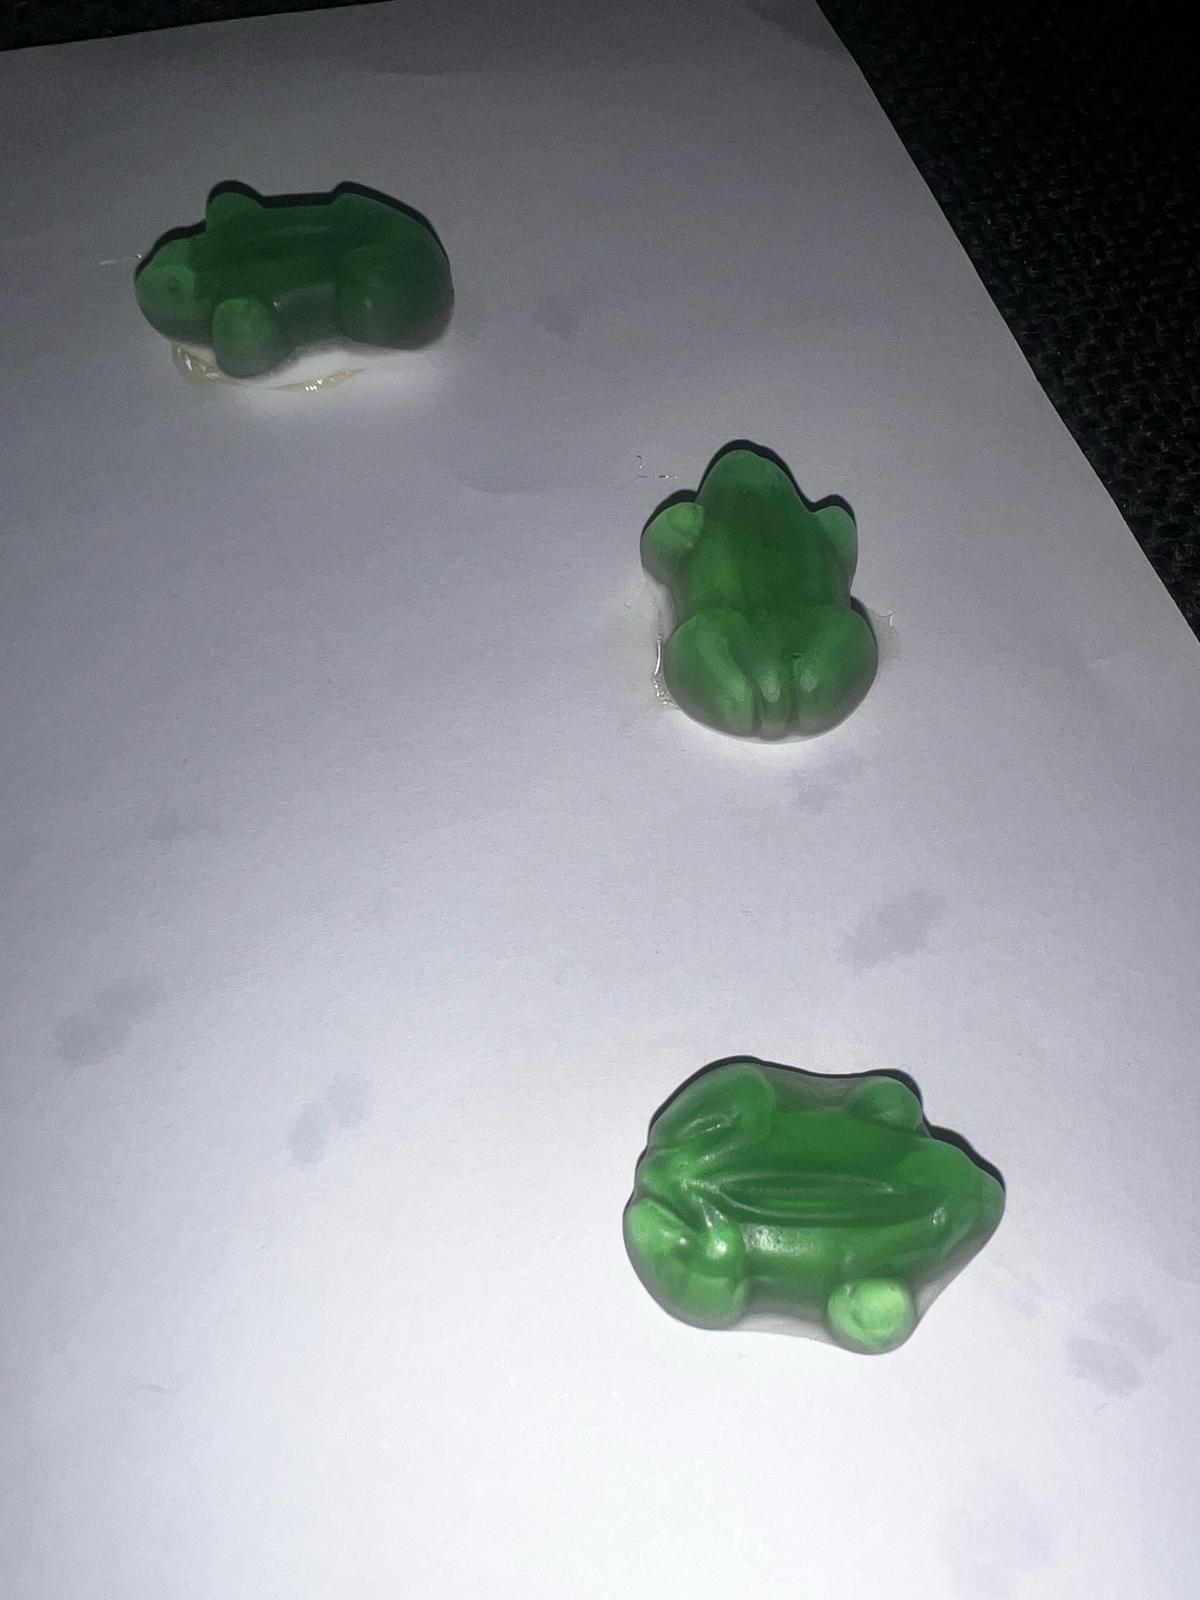frog: (603, 1054, 1010, 1356), (621, 438, 894, 753), (120, 176, 463, 387)
